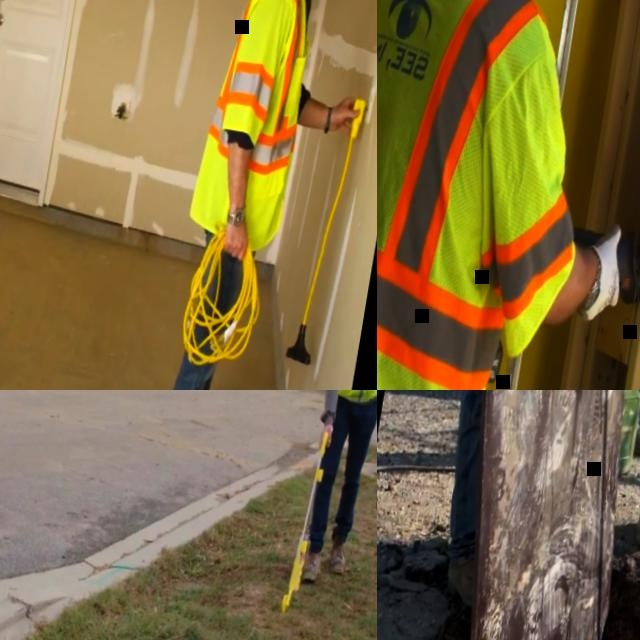Person: (377, 0, 640, 390), (157, 0, 377, 390), (416, 390, 519, 606), (287, 390, 377, 592), (610, 390, 640, 460)
Safety Vest: (377, 0, 623, 390), (195, 0, 327, 205)
